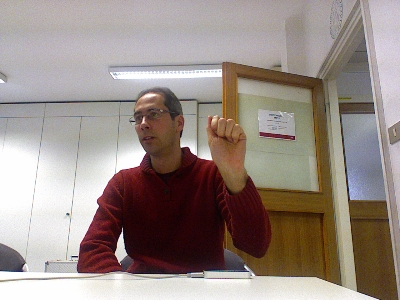石头: (206, 113, 246, 170)
